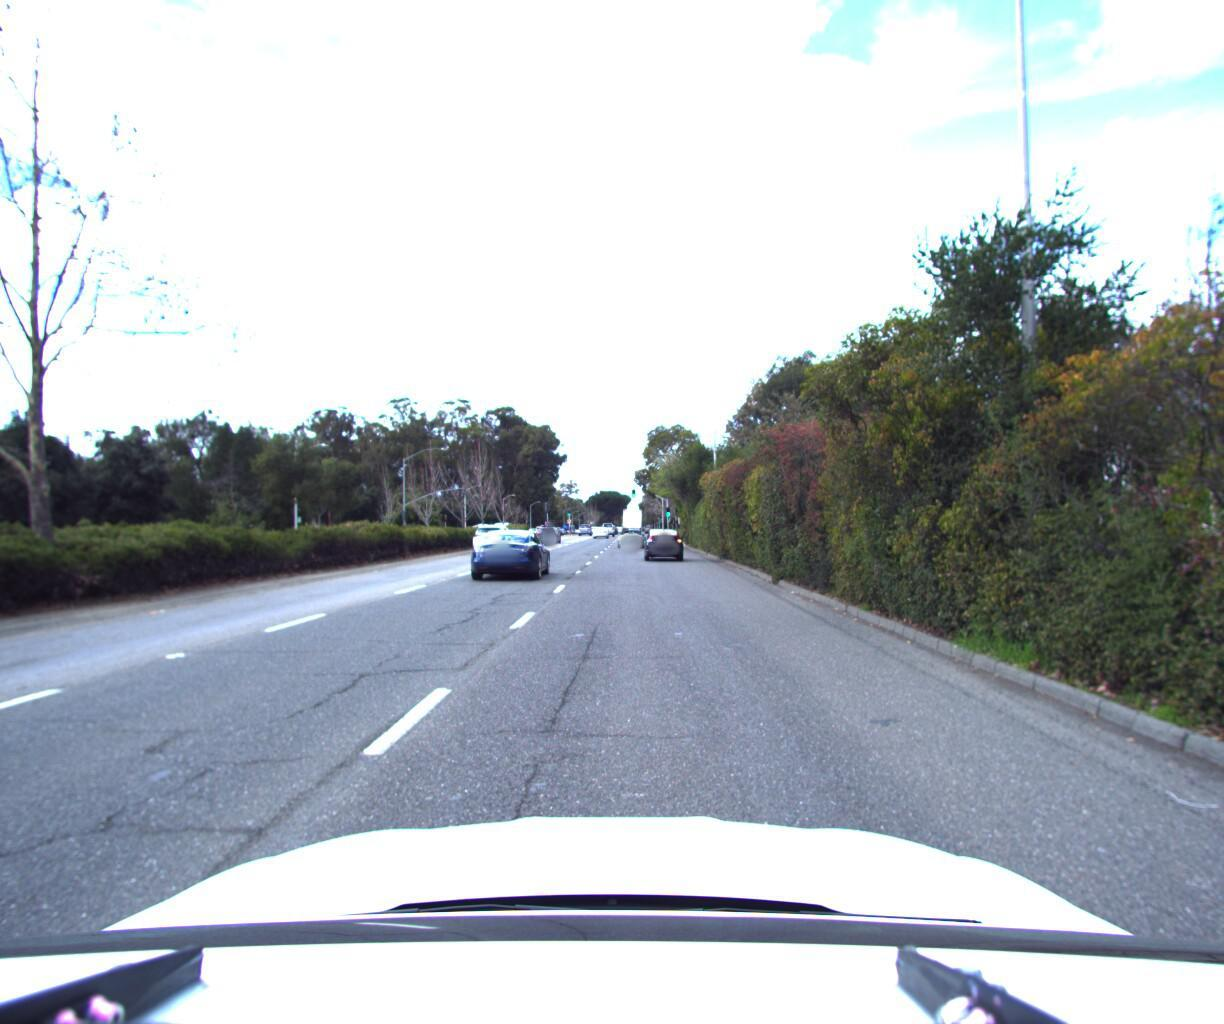car: (467, 529, 556, 584), (642, 524, 688, 562), (471, 522, 519, 557), (615, 526, 647, 551), (538, 524, 565, 545)
